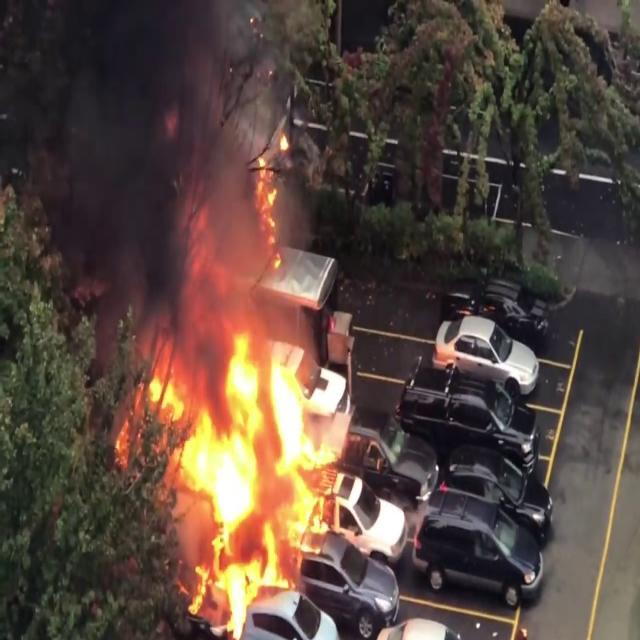Fire: (127, 145, 347, 627)
Smoke: (27, 0, 320, 329)
